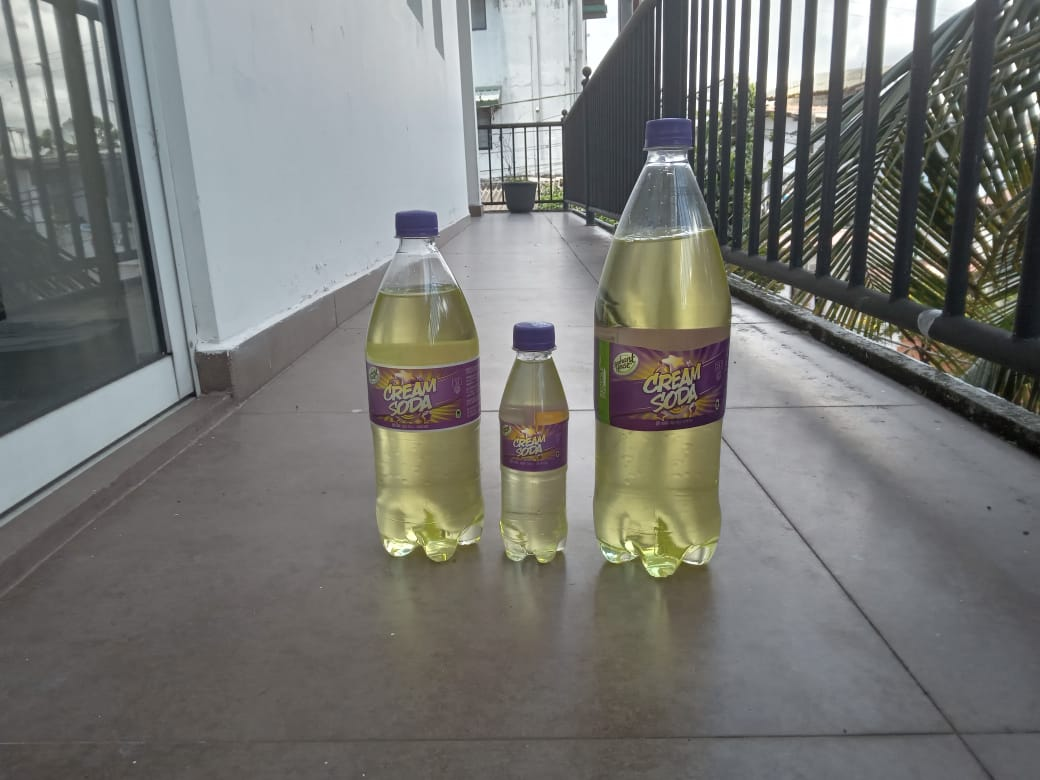L: (595, 118, 734, 579)
M: (363, 214, 488, 561)
Xs: (499, 322, 570, 568)
